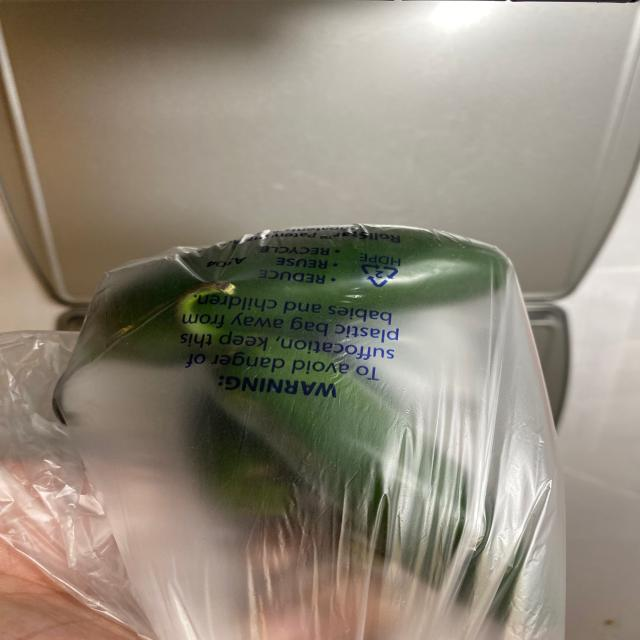chilli: (57, 239, 554, 617)
